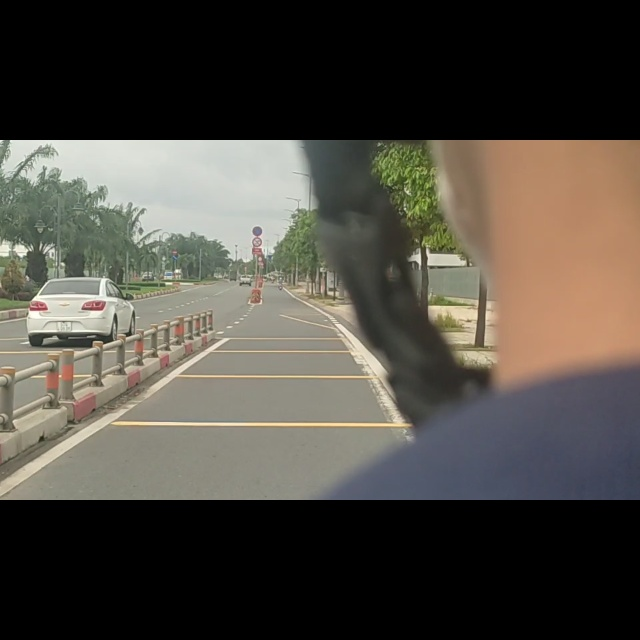bien_hieu_lenh: (251, 152, 263, 172), (253, 173, 262, 191)
